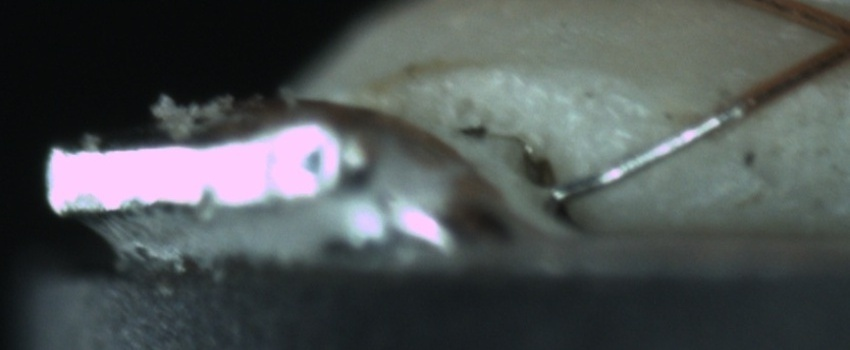TS: (553, 100, 744, 203)
